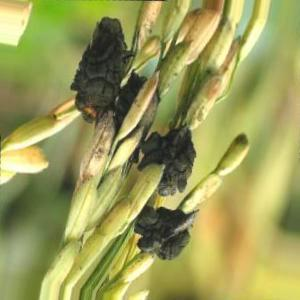Leaf_Scald: (78, 17, 137, 115), (141, 129, 204, 188), (140, 210, 195, 262)
